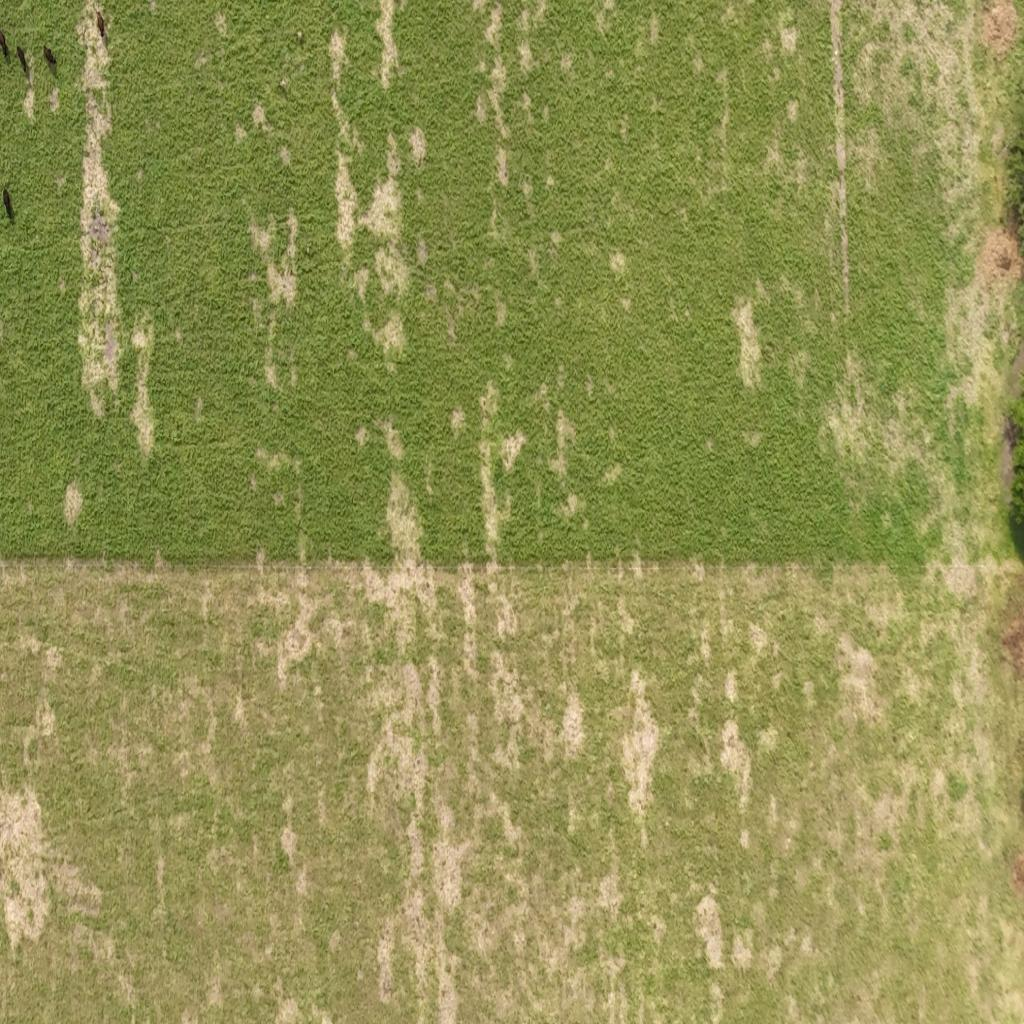cow: (41, 38, 59, 71), (2, 184, 16, 220), (18, 46, 32, 80), (0, 30, 10, 64), (96, 9, 106, 42)
